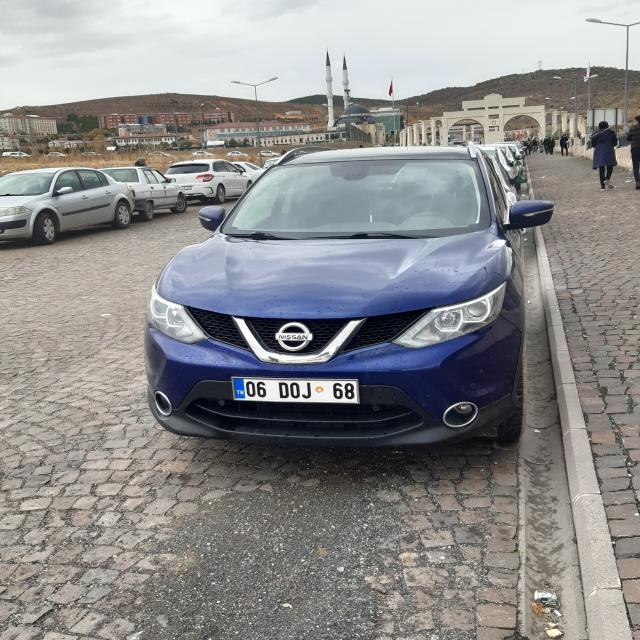plate: (233, 378, 359, 404)
